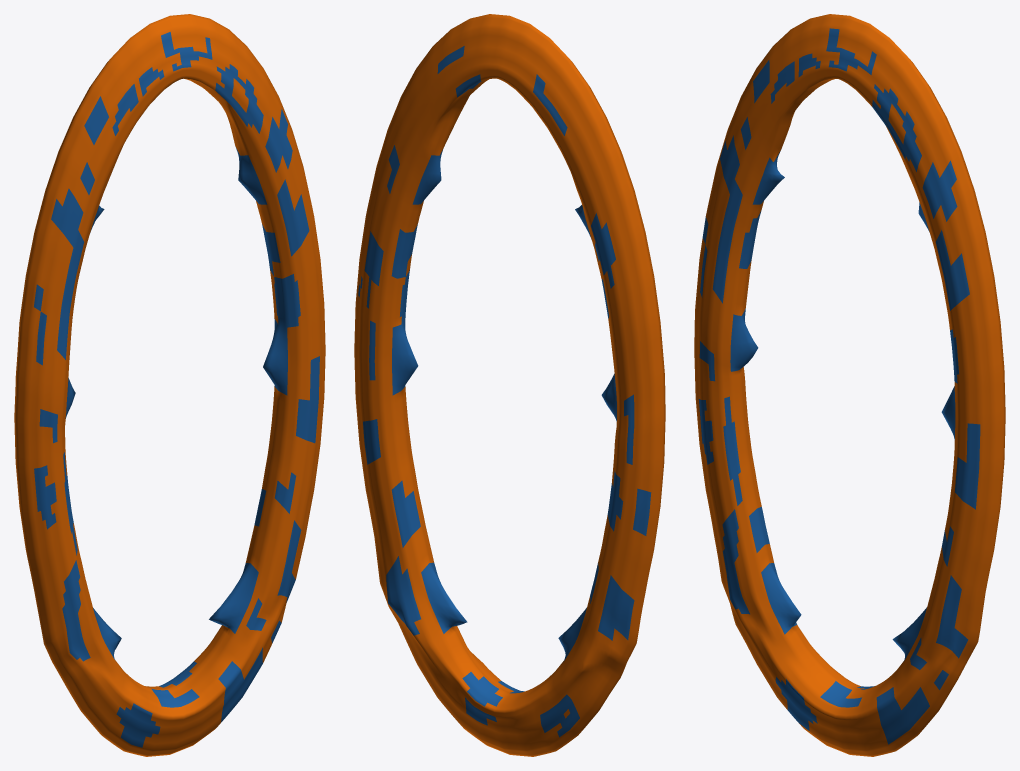
The model's file is PortalNaranjaCoco.fbx.
3 views of the same model, side by side, from view 1: azimuth 30°, elevation 25°; view 2: azimuth 150°, elevation 25°; view 3: azimuth 330°, elevation 25° (orthographic).
Visible parts, largest first — view 1: Rosca; view 2: Rosca; view 3: Rosca.
Part boxes in pixels (left/top/right/bottom): Rosca: left=14, top=14, right=325, bottom=756; Rosca: left=354, top=14, right=665, bottom=756; Rosca: left=694, top=14, right=1005, bottom=756.
Bounding box in the file's own units: 58.08 × 133 × 9.99.
